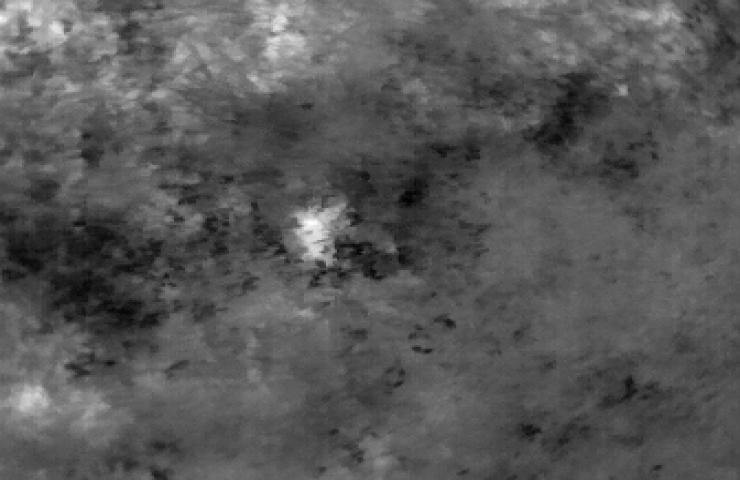landmines: (288, 200, 355, 267)
